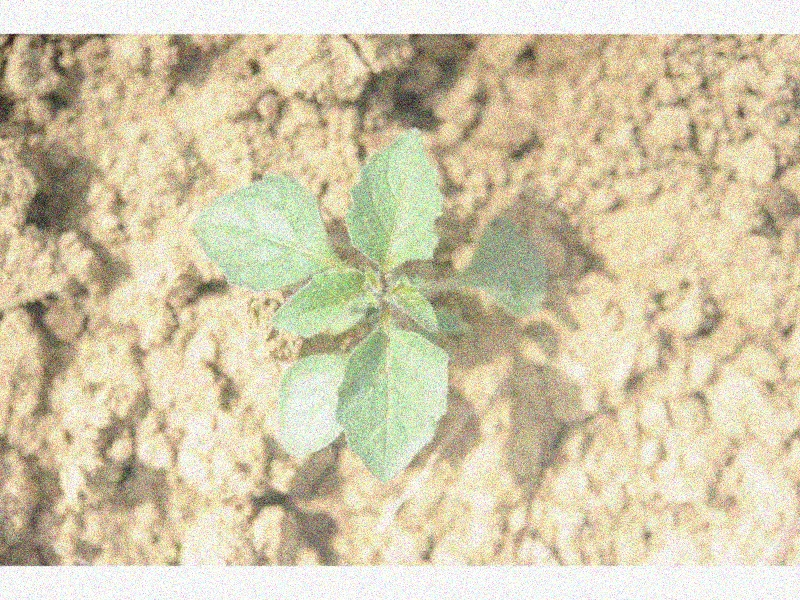nightshade: (194, 125, 548, 482)
